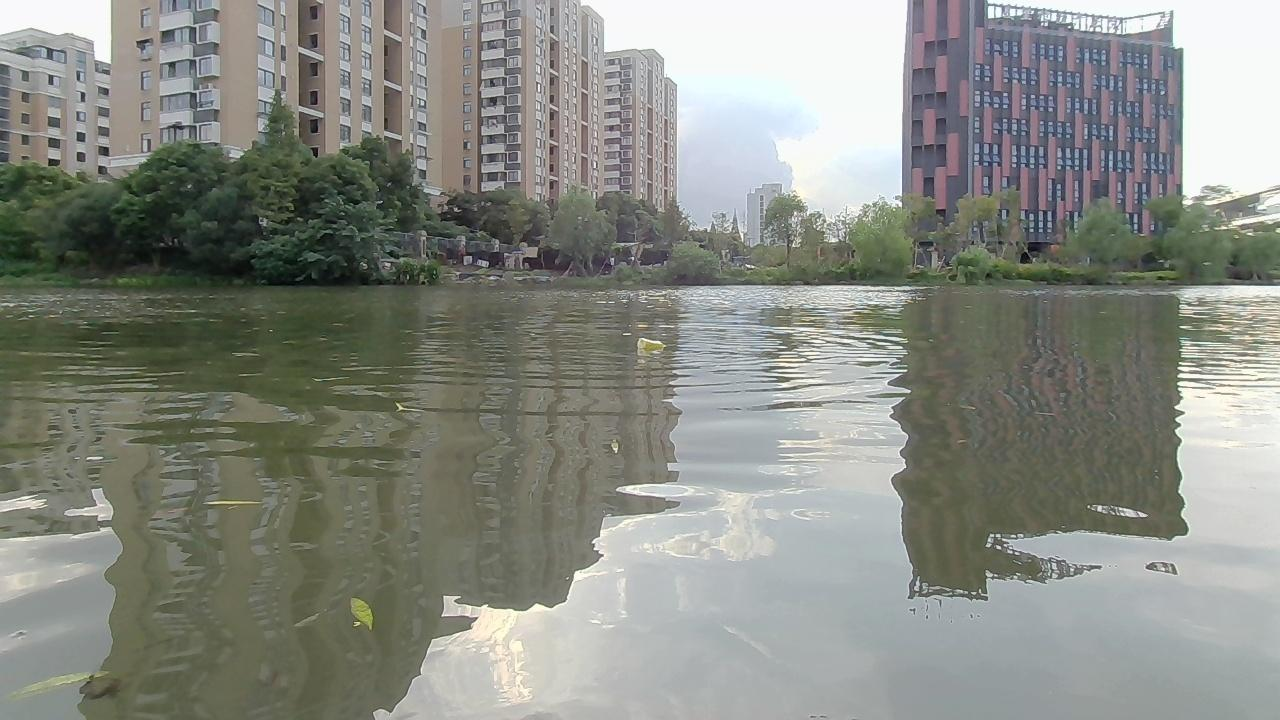bottle: (637, 335, 668, 357)
